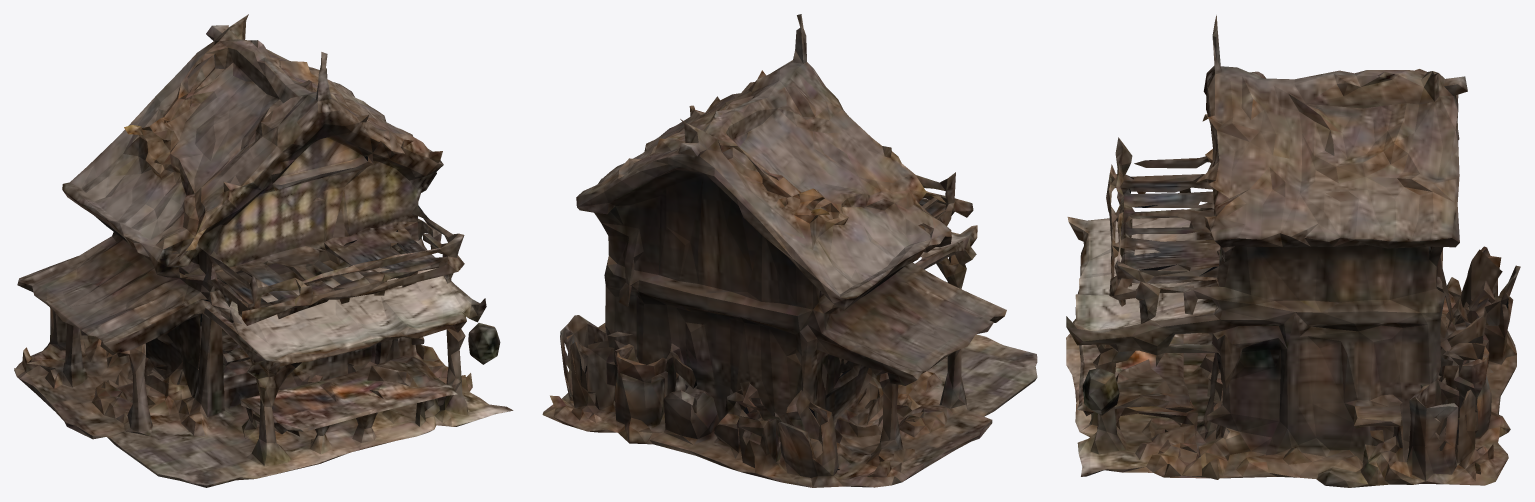
Rendered from hut_mossy_ruined_b_lod0.glb.
3 views of the same model, side by side, from view 1: azimuth 30°, elevation 25°; view 2: azimuth 150°, elevation 25°; view 3: azimuth 270°, elevation 25° (orthographic). The views are drawn at different scales.
Visible parts, largest first — view 1: hut_mossy_ruined_b_lod0; view 2: hut_mossy_ruined_b_lod0; view 3: hut_mossy_ruined_b_lod0.
Part boxes in pixels (box(x1,y1,x2,y2)): hut_mossy_ruined_b_lod0: box(14, 14, 513, 487); hut_mossy_ruined_b_lod0: box(542, 14, 1037, 487); hut_mossy_ruined_b_lod0: box(1066, 15, 1520, 487).
Size of the model in its own units: 6.93 by 6.39 by 6.66.
Materials: 1 (1 with a texture image).
